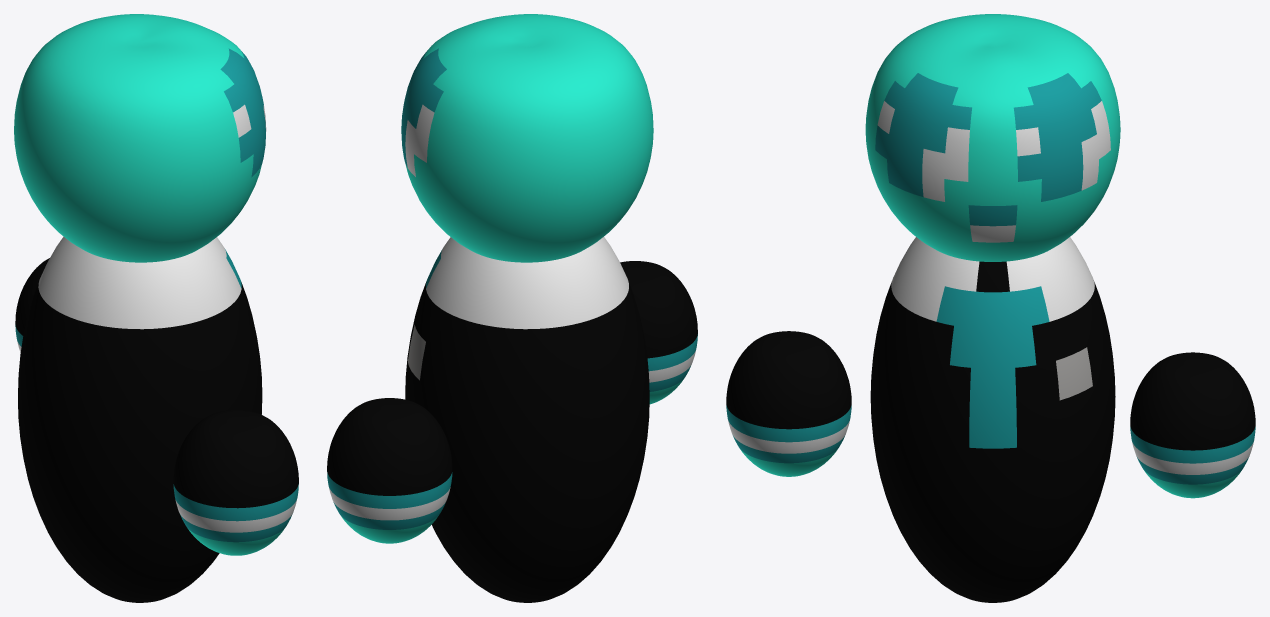
File: executingblue.fbx
3 renders of one model, left to right at view 1: azimuth 30°, elevation 25°; view 2: azimuth 150°, elevation 25°; view 3: azimuth 270°, elevation 25°, orthographic.
Visible parts, largest first — view 1: Body, Head, Arm 1, Arm 2; view 2: Body, Head, Arm 2, Arm 1; view 3: Body, Head, Arm 2, Arm 1.
Boxes of the visible parts, x1=… form: Body: x1=18, y1=236, x2=262, y2=602; Head: x1=14, y1=14, x2=266, y2=262; Arm 1: x1=173, y1=410, x2=298, y2=555; Arm 2: x1=15, y1=258, x2=49, y2=352; Body: x1=405, y1=237, x2=649, y2=602; Head: x1=401, y1=14, x2=653, y2=262; Arm 2: x1=327, y1=398, x2=452, y2=543; Arm 1: x1=620, y1=261, x2=697, y2=404; Body: x1=870, y1=237, x2=1115, y2=602; Head: x1=865, y1=14, x2=1120, y2=261; Arm 2: x1=1130, y1=352, x2=1255, y2=498; Arm 1: x1=726, y1=331, x2=851, y2=476.
Bounding box in the file's own units: 203 × 497 × 427.
